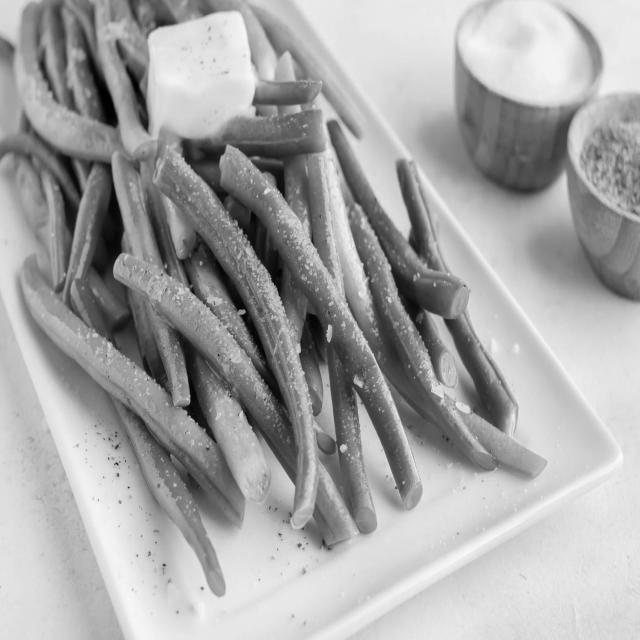Beans: (0, 0, 551, 582)
